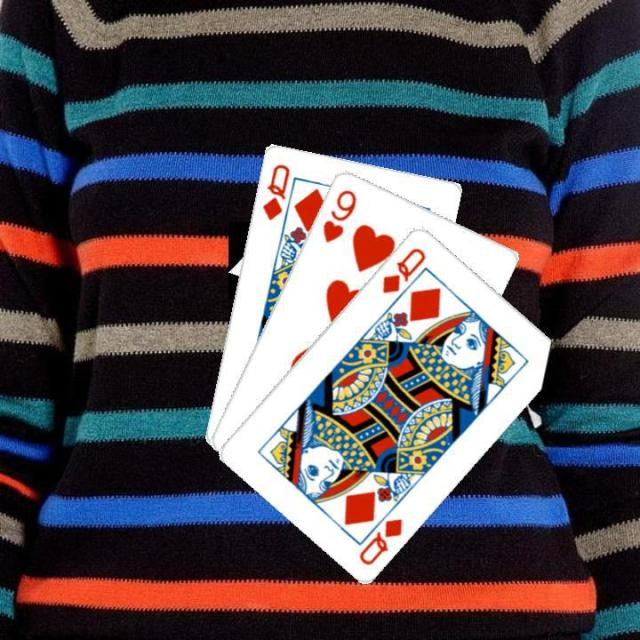9H: (318, 185, 358, 244)
QD: (354, 514, 404, 567), (378, 243, 428, 295), (258, 159, 292, 222)
